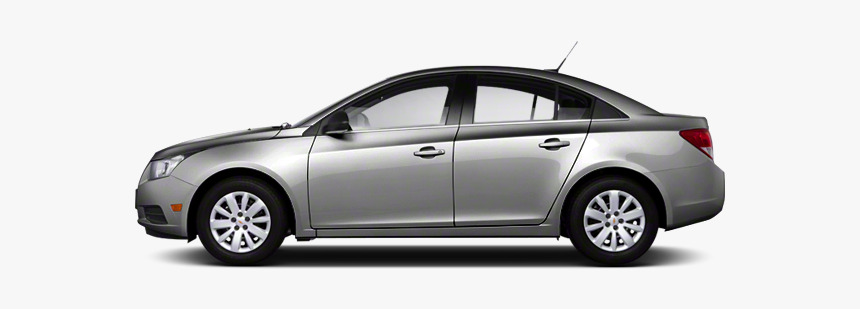mobil: (132, 37, 728, 269)
